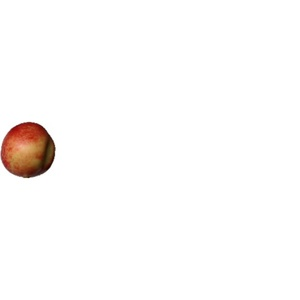nectarina: (1, 122, 56, 180)
